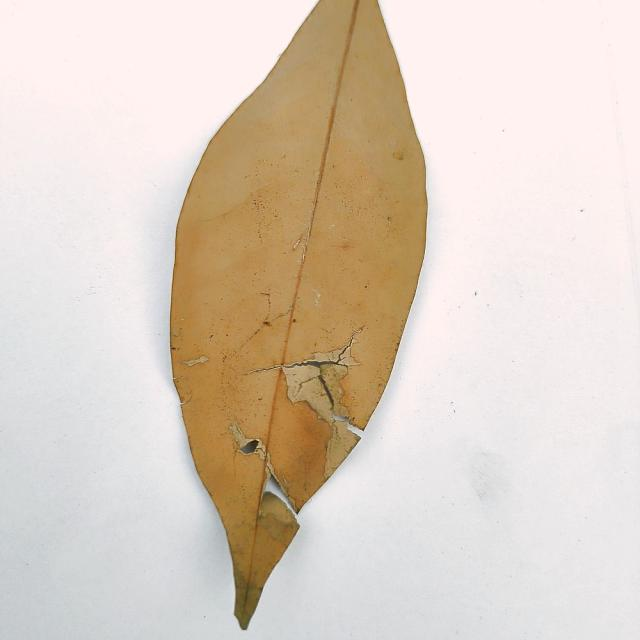Dry_Leaf-Lychee: (168, 0, 429, 632)
